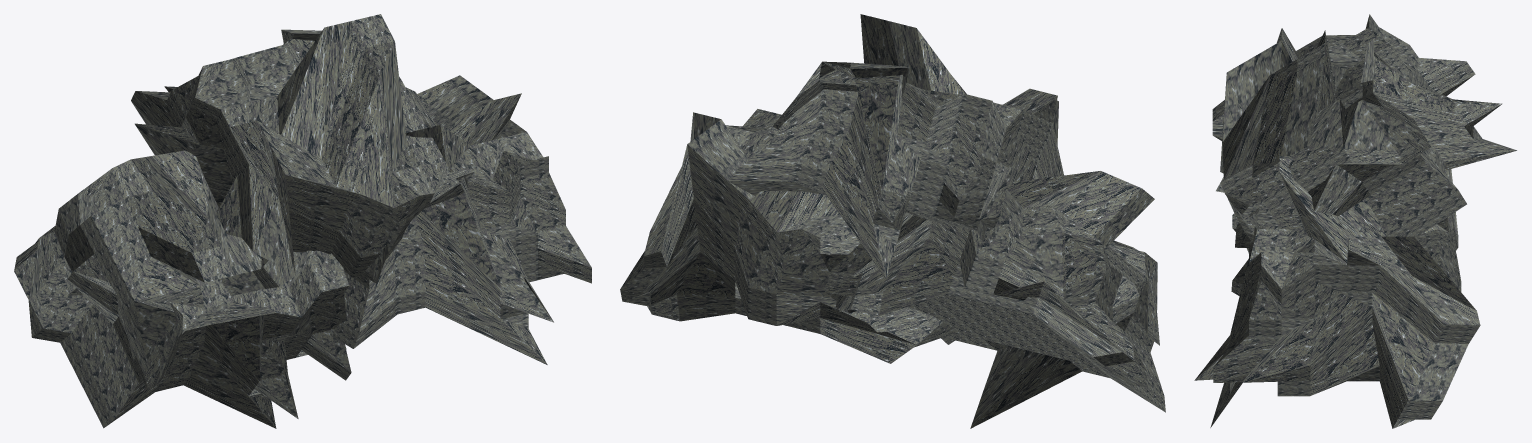
File: mountain.fbx
3 views of the same model, side by side, from view 1: azimuth 30°, elevation 25°; view 2: azimuth 150°, elevation 25°; view 3: azimuth 270°, elevation 25° (orthographic). The views are drawn at different scales.
Visible parts, largest first — view 1: Cube.002, Cube, Cube.001; view 2: Cube.002, Cube, Cube.001; view 3: Cube, Cube.001, Cube.002.
Boxes of the visible parts, bbox=[...] form: Cube.002: bbox=[14, 150, 351, 428]; Cube: bbox=[131, 14, 464, 295]; Cube.001: bbox=[332, 75, 591, 364]; Cube.002: bbox=[825, 171, 1165, 428]; Cube: bbox=[728, 14, 1063, 278]; Cube.001: bbox=[620, 109, 955, 363]; Cube: bbox=[1220, 14, 1516, 242]; Cube.001: bbox=[1194, 156, 1480, 428]; Cube.002: bbox=[1212, 100, 1458, 253].
Bounding box in the file's own units: 14964 × 11063 × 8694.
